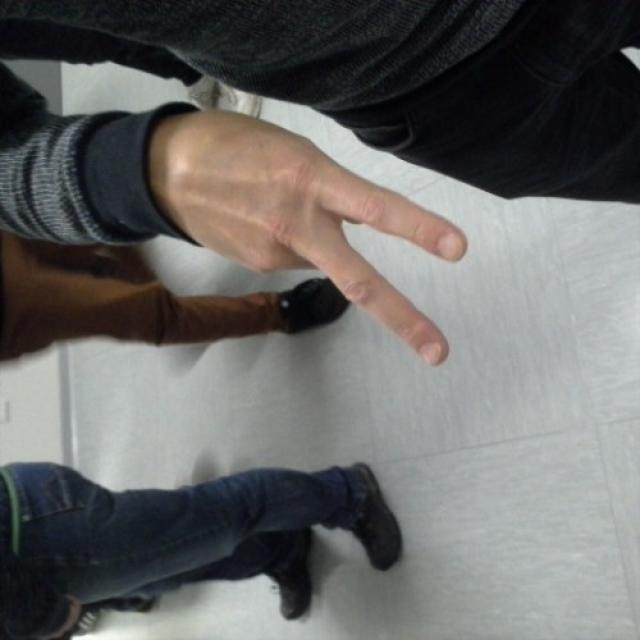scissors: (260, 120, 470, 372)
